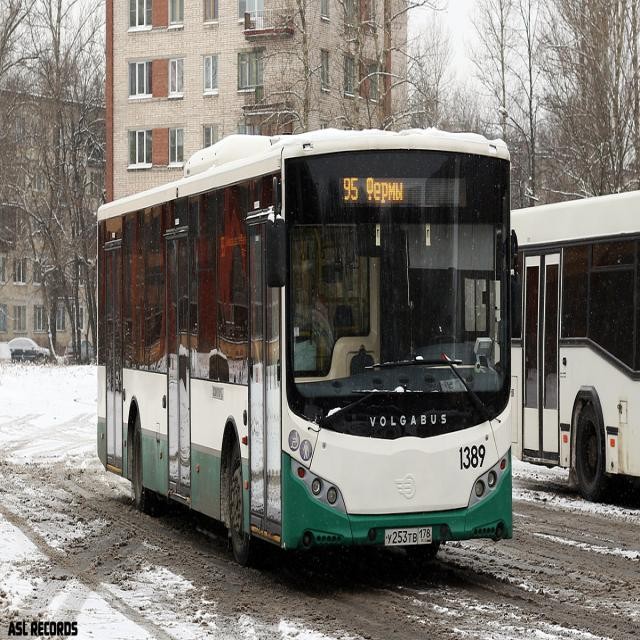number-of-bus: (344, 176, 360, 204)
